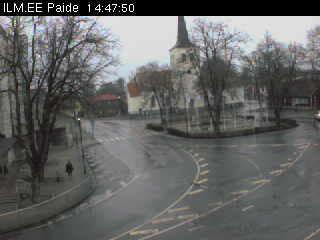car: (312, 109, 320, 121)
person: (65, 160, 74, 179)
